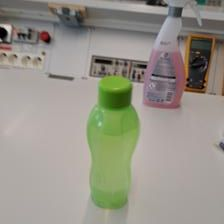bottle: (86, 75, 140, 209)
